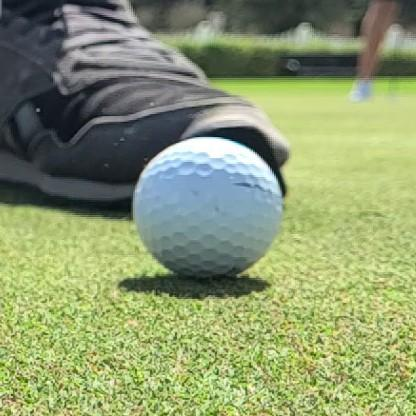golfball: (134, 138, 282, 279)
